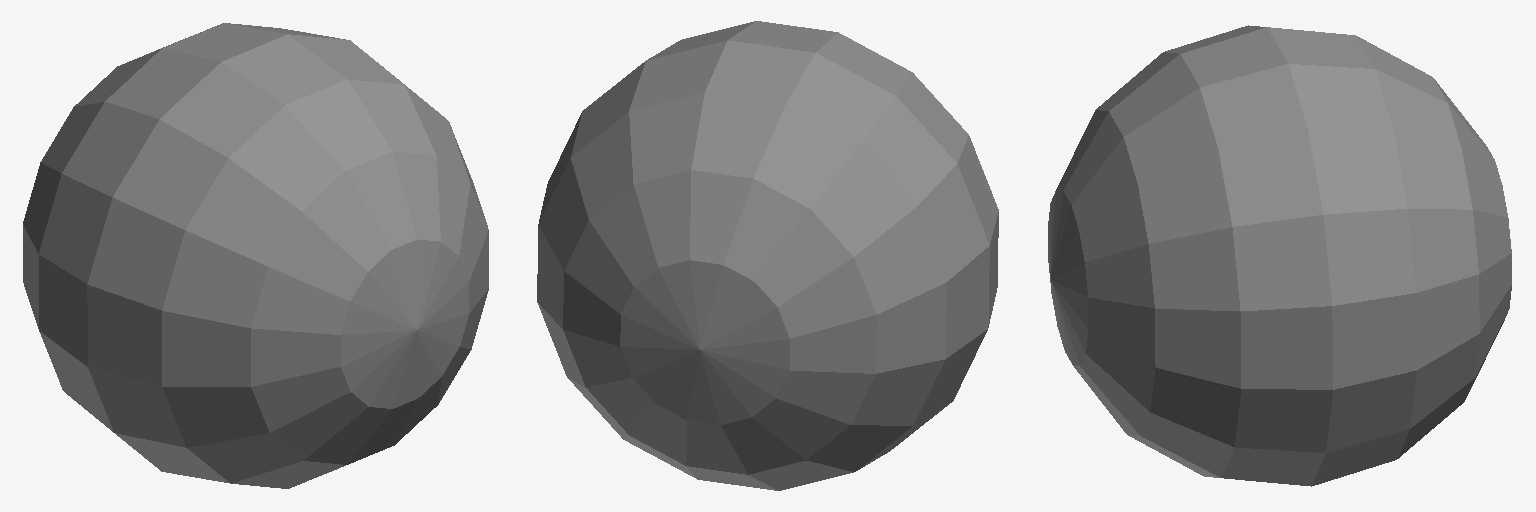
File: ball.obj
The picture shows the model from 3 angles: view 1: azimuth 30°, elevation 25°; view 2: azimuth 150°, elevation 25°; view 3: azimuth 270°, elevation 25°; orthographic projection.
Parts seen in each view (by area): view 1: ball_未命名; view 2: ball_未命名; view 3: ball_未命名.
Boxes of the visible parts, box(x1,y1,x2,y2) form: ball_未命名: box(23, 23, 488, 488); ball_未命名: box(537, 21, 998, 490); ball_未命名: box(1048, 25, 1511, 486).
Bounding box in the file's own units: 0.6449 × 0.6527 × 0.6543.